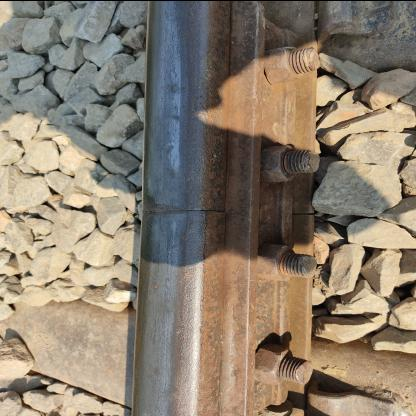Non Defective: (171, 12, 378, 402)
